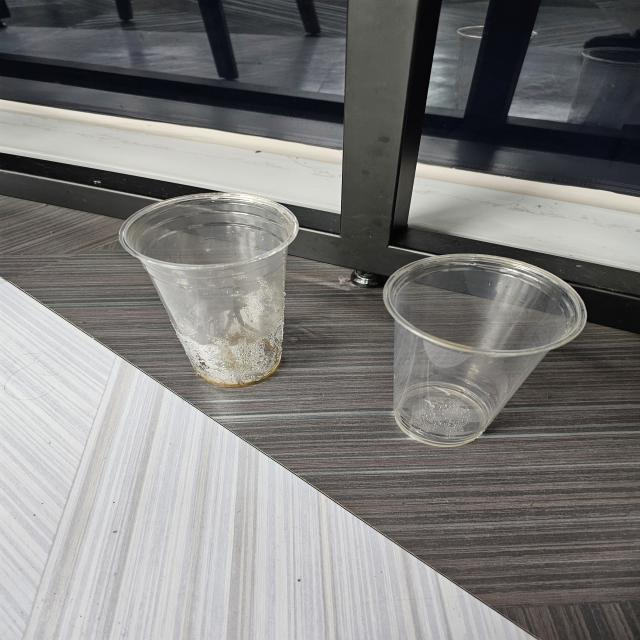cup: (376, 251, 592, 453), (113, 189, 308, 393)
